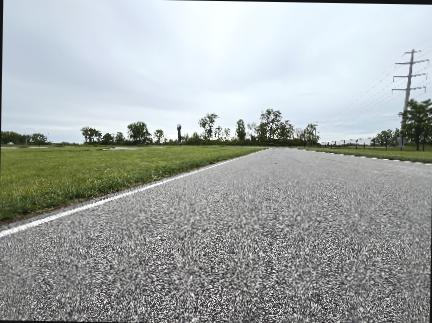Grass: (0, 146, 262, 220), (305, 147, 431, 163)
Lane: (0, 149, 431, 322)
